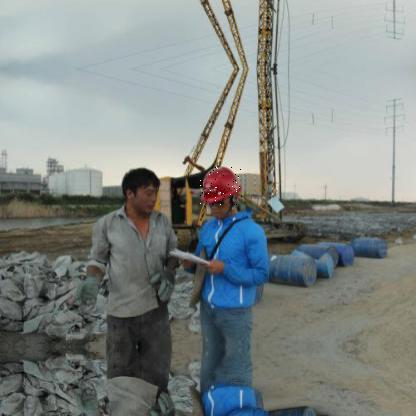safetyhelmet: (200, 166, 244, 206)
